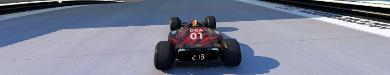Car: (153, 15, 241, 69)
obstacles-Borders: (0, 0, 125, 14)
